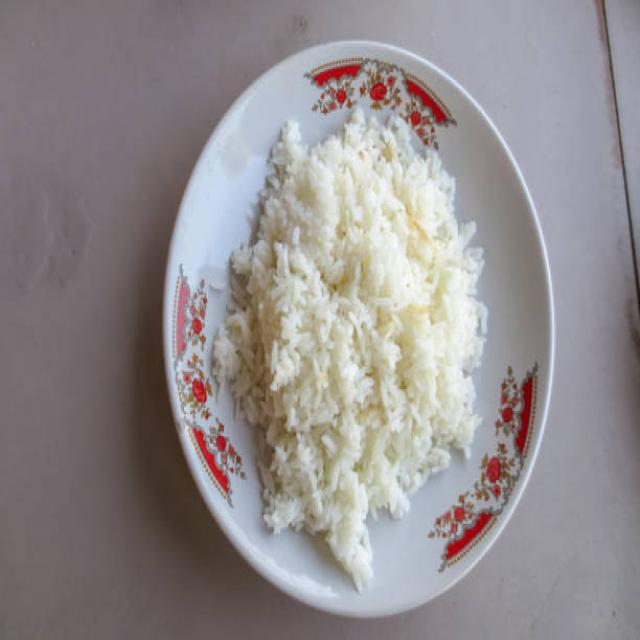Rice: (210, 102, 490, 596)
